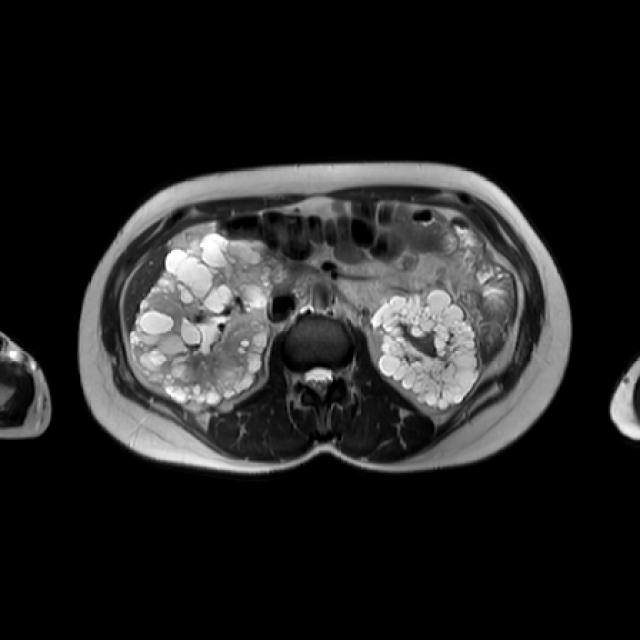sag: (131, 233, 288, 405)
sol: (371, 288, 477, 410)
